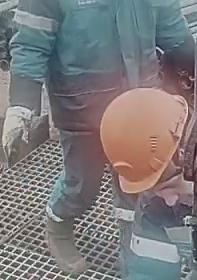gloves: (0, 97, 34, 168)
helmet: (99, 86, 188, 194)
vest: (10, 0, 194, 127)
